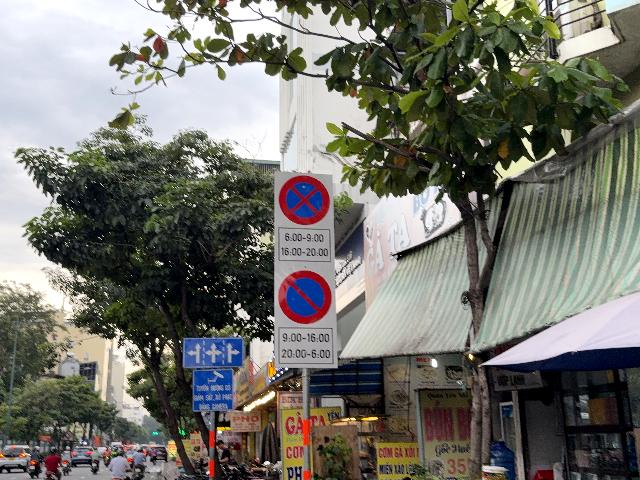cam-do-xe: (278, 270, 332, 324)
cam-dung-va-do-xe: (278, 175, 330, 225)
